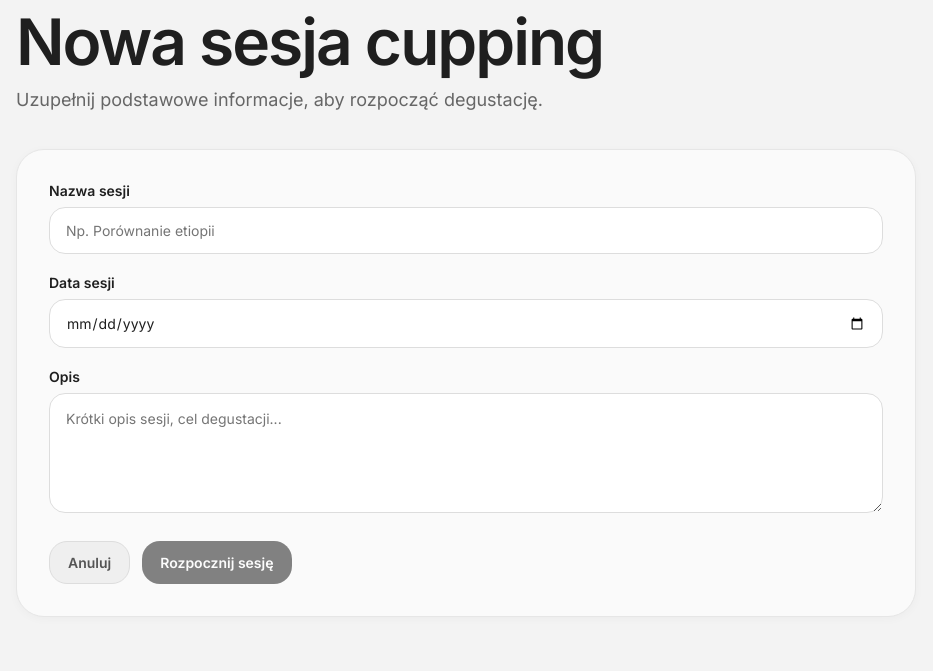
CreateCupping › shows error when creation fails
Step 1. Type "Sesja" into the field labelled "Nazwa sesji" → (466, 230), box [49,207,883,254]
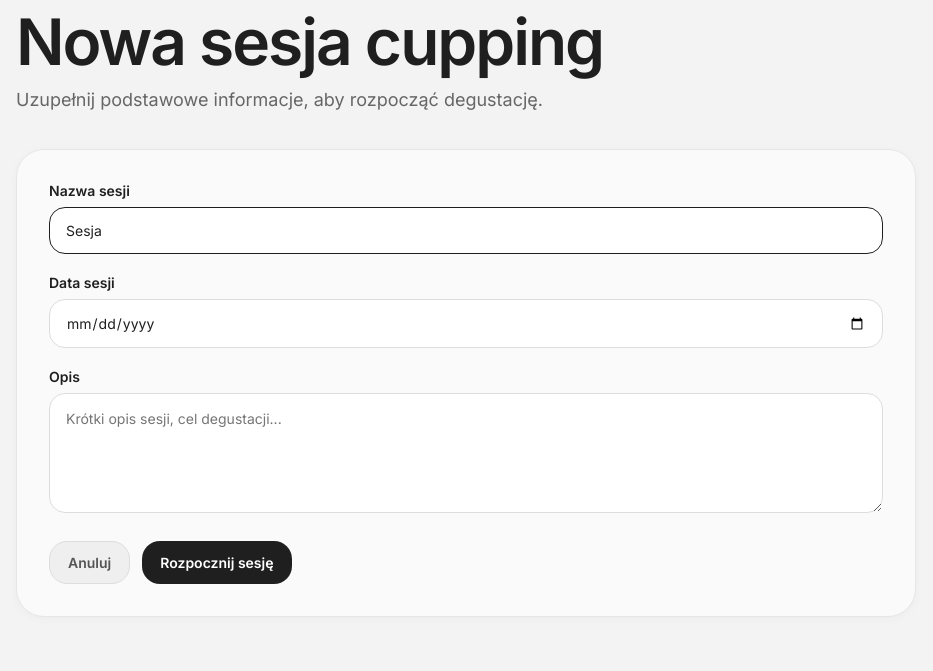
Step 2. Click the button "Rozpocznij sesję" → (217, 562), box [142,541,292,584]
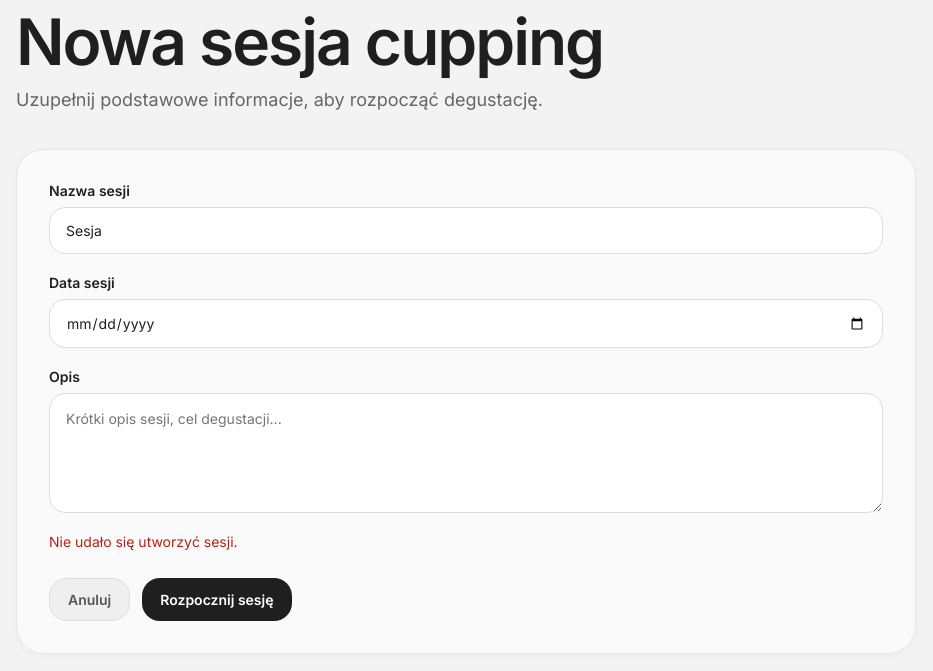
Check: the text "Nie udało się utworzyć sesji." is shown, box [49,533,238,550]
